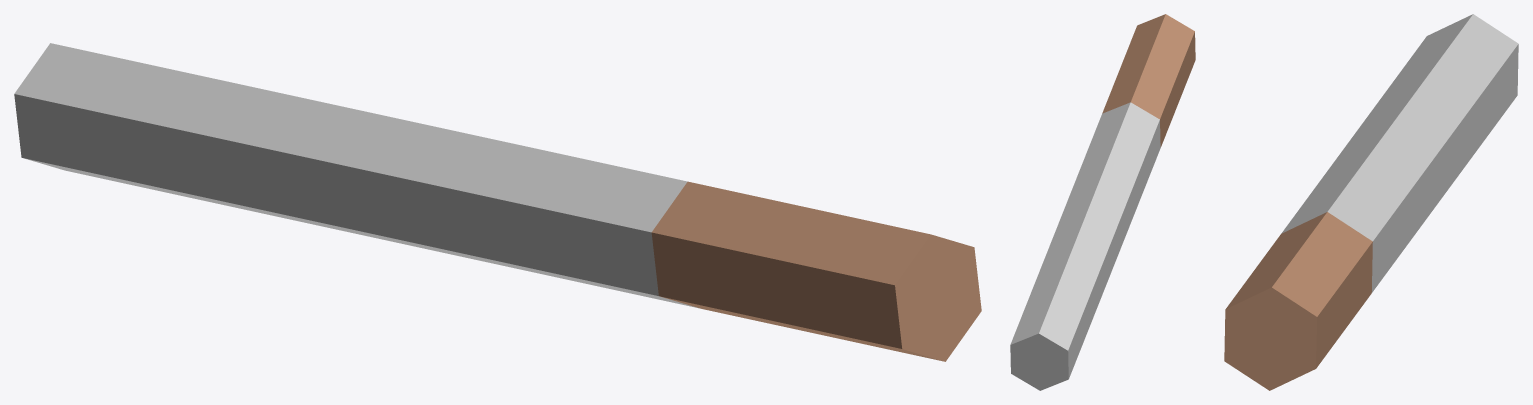
File: cigarette.fbx
3 views of the same model, side by side, from view 1: azimuth 30°, elevation 25°; view 2: azimuth 150°, elevation 25°; view 3: azimuth 330°, elevation 25° (orthographic). The views are drawn at different scales.
Visible parts, largest first — view 1: cigarette; view 2: cigarette; view 3: cigarette.
Part boxes in pixels (<box>): cigarette: <box>14,43,981,361</box>; cigarette: <box>1010,14,1195,390</box>; cigarette: <box>1224,14,1518,390</box>.
Bounding box in the file's own units: 2.32 × 1.45 × 5.72.
